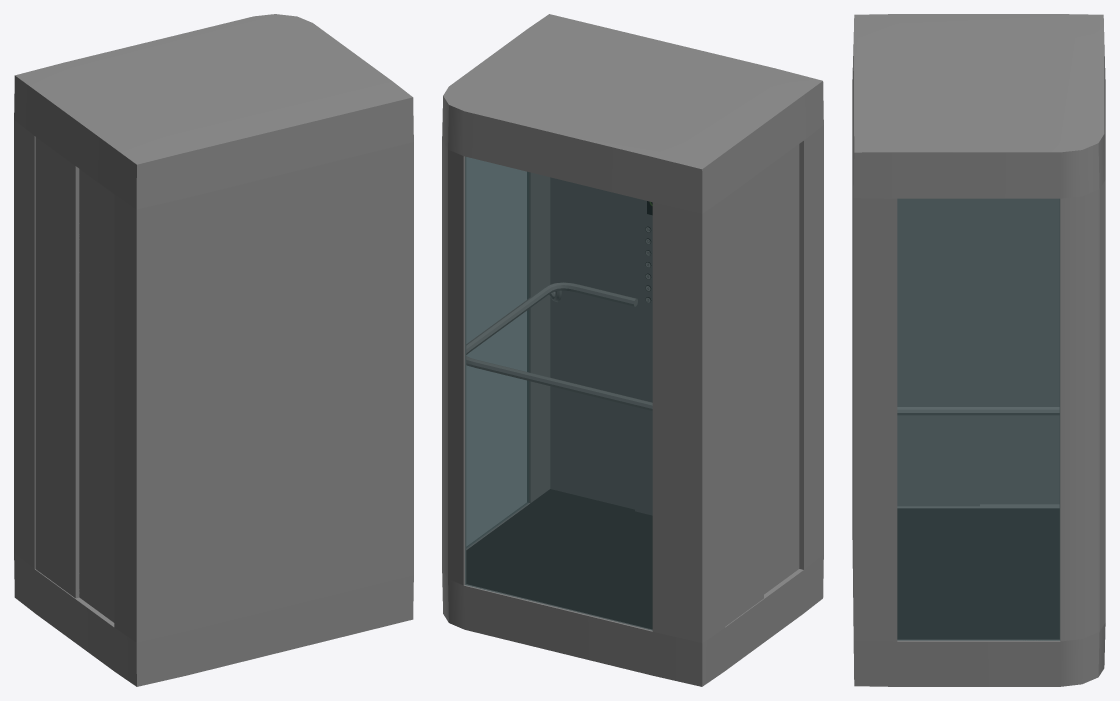
Rendered from Elevador.fbx.
The picture shows the model from 3 angles, left to right: view 1: azimuth 30°, elevation 25°; view 2: azimuth 150°, elevation 25°; view 3: azimuth 270°, elevation 25°; orthographic projection. The views are drawn at different scales.
Visible parts, largest first — view 1: Elevator_Box, Door_02, Door_01; view 2: Elevator_Box, Glass_00, Glass_01, Door_02, Door_01, Pannel, Bar_Handle; view 3: Elevator_Box, Glass_01, Door_01, Door_02, Bar_Handle.
Part boxes in pixels (bbox=[...]): Elevator_Box: bbox=[14, 14, 413, 686]; Door_02: bbox=[35, 137, 79, 598]; Door_01: bbox=[79, 169, 114, 622]; Elevator_Box: bbox=[442, 14, 823, 686]; Glass_00: bbox=[465, 156, 652, 630]; Glass_01: bbox=[466, 157, 528, 547]; Door_02: bbox=[725, 170, 763, 626]; Door_01: bbox=[764, 144, 799, 594]; Pannel: bbox=[635, 198, 652, 515]; Bar_Handle: bbox=[466, 282, 652, 410]; Elevator_Box: bbox=[852, 14, 1105, 686]; Glass_01: bbox=[897, 198, 1059, 640]; Door_01: bbox=[897, 199, 979, 505]; Door_02: bbox=[980, 199, 1059, 503]; Bar_Handle: bbox=[897, 407, 1059, 414].
Size of the model in its own units: 66.65 by 120 by 51.19.
